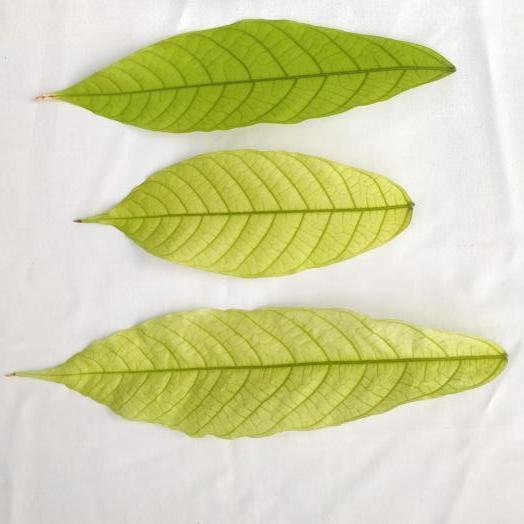Iron: (14, 309, 507, 438), (42, 19, 454, 131), (80, 151, 413, 277)
